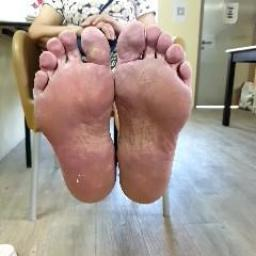Plantar View -Both Feet-: (14, 8, 210, 214)
